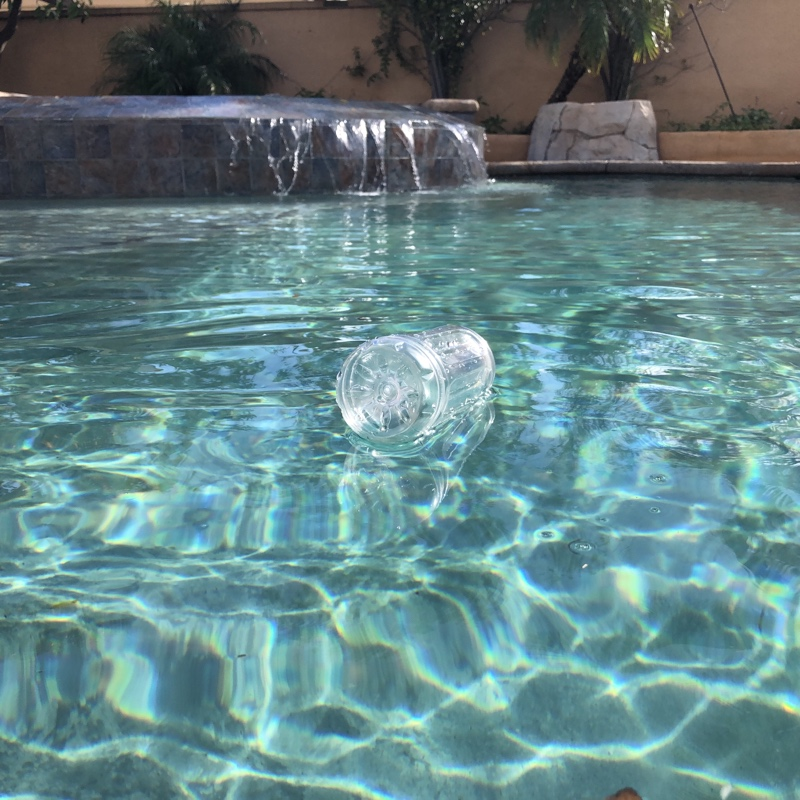Plastic Bottle: (329, 320, 502, 450)
